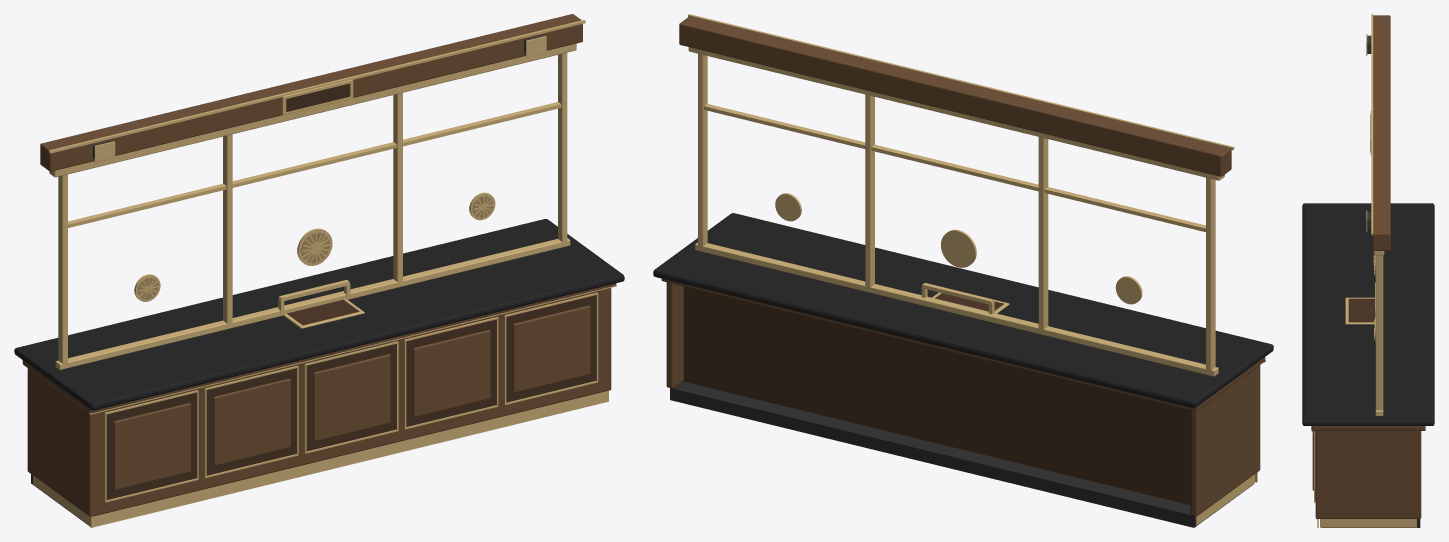
The model's file is service_window.glb.
The picture shows the model from 3 angles, left to right: view 1: azimuth 30°, elevation 25°; view 2: azimuth 150°, elevation 25°; view 3: azimuth 270°, elevation 25°; orthographic projection. The views are drawn at different scales.
Parts seen in each view (by area): view 1: sw_walnut, sw_brass, sw_stone, sw_walnutDark, sw_grille; view 2: sw_walnutDark, sw_stone, sw_walnut, sw_brass, sw_plinth; view 3: sw_stone, sw_walnut, sw_brass, sw_walnutDark, sw_lampHouse.
Boxes of the visible parts, x1,y1,x2,y2 form: sw_walnut: (22, 14, 616, 516); sw_brass: (33, 20, 616, 527); sw_stone: (14, 219, 624, 410); sw_walnutDark: (106, 83, 596, 499); sw_grille: (138, 196, 493, 299); sw_walnutDark: (683, 286, 1190, 504); sw_stone: (653, 213, 1273, 408); sw_walnut: (661, 16, 1265, 516); sw_brass: (688, 14, 1265, 525); sw_plinth: (670, 381, 1253, 527); sw_stone: (1302, 203, 1434, 425); sw_walnut: (1311, 15, 1425, 518); sw_brass: (1311, 14, 1416, 527); sw_walnutDark: (1315, 115, 1374, 500); sw_lampHouse: (1367, 35, 1371, 230).
Bounding box in the file's own units: 4.72 × 2.99 × 1.2.
